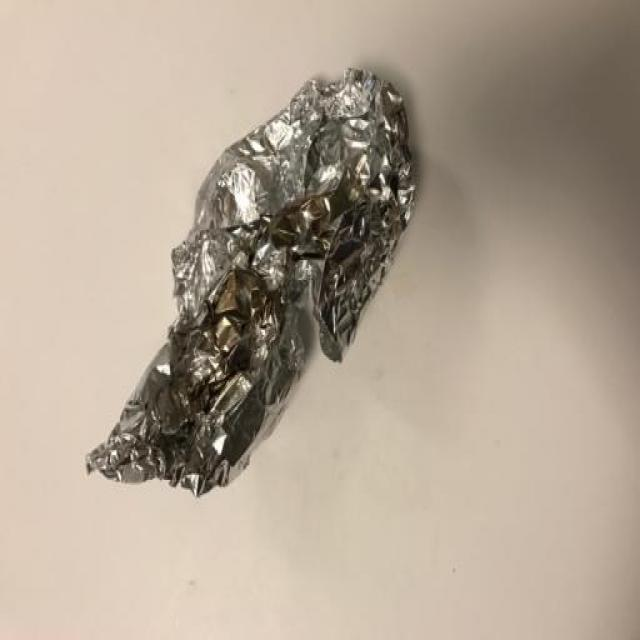others: (76, 50, 457, 555)
